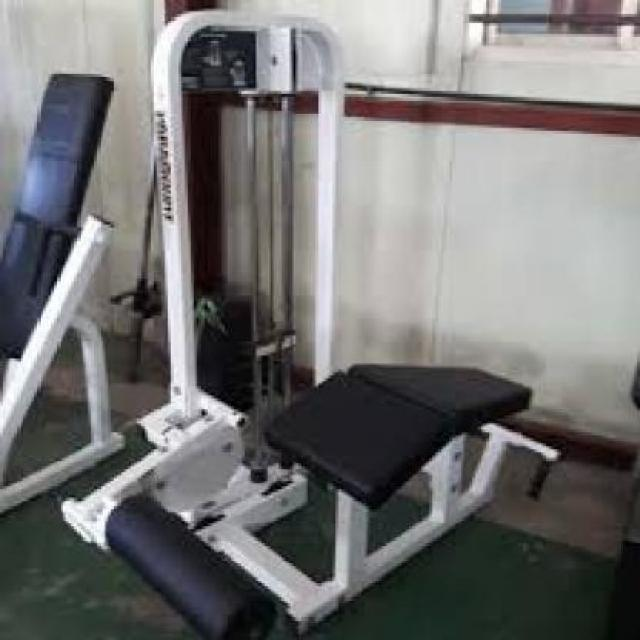reg curl machine: (63, 12, 565, 638)
